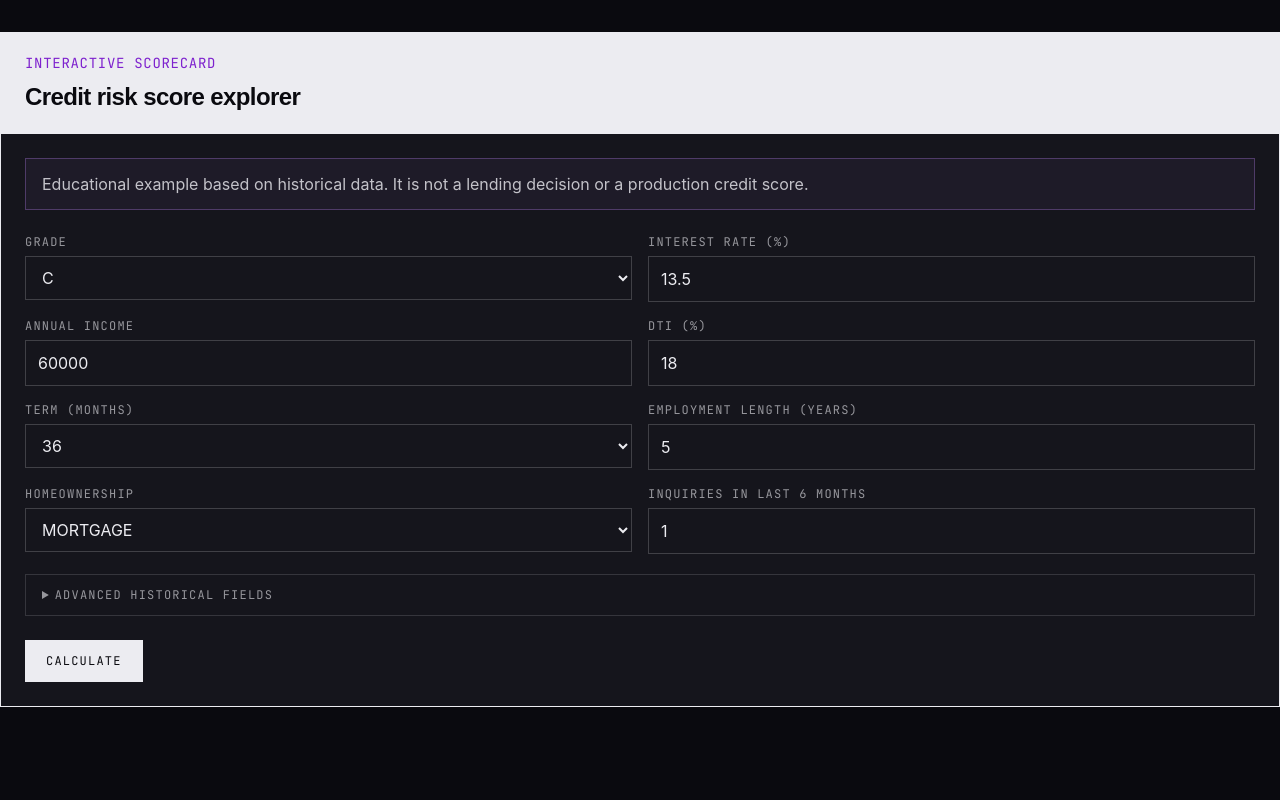
marks a calculated result stale when an input changes
The width and height of the screenshot is (1280, 800).
Click the button "Calculate" at (84, 661), box [25, 640, 143, 682]
(page scrolled)
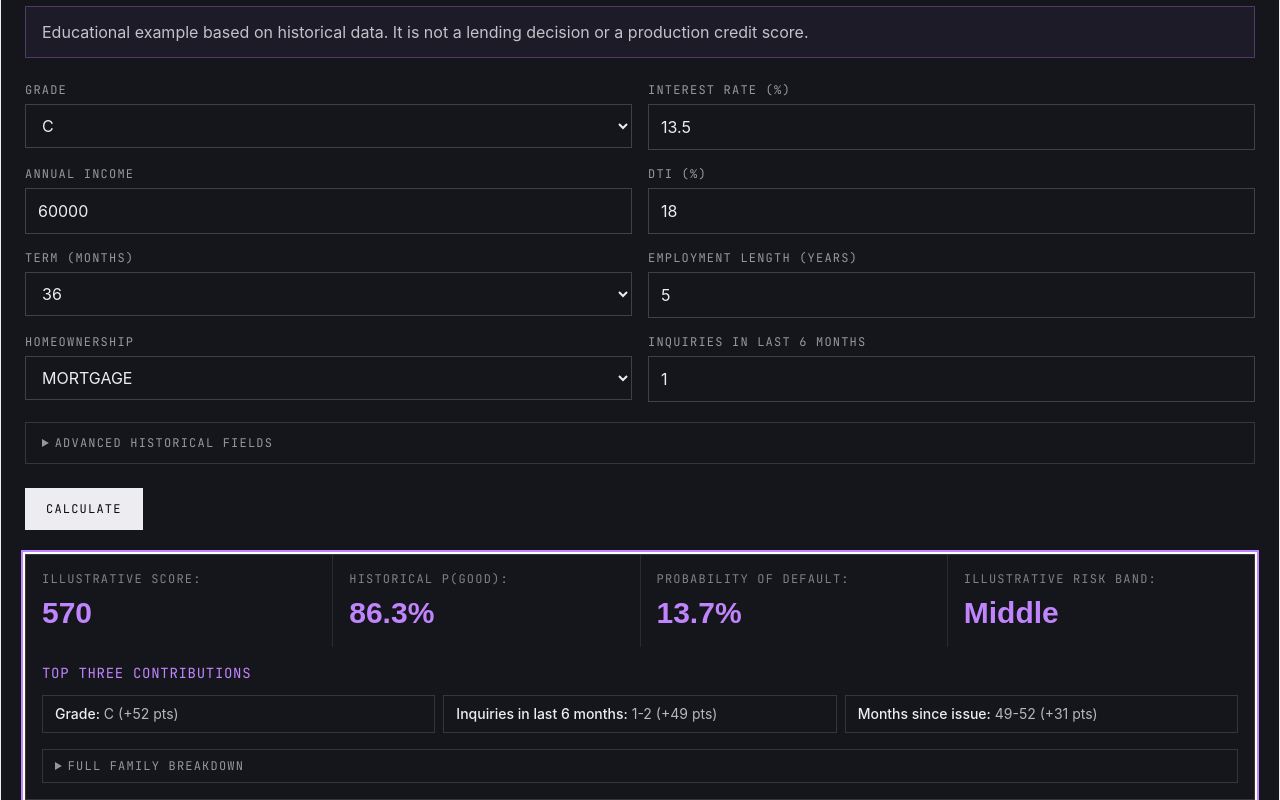
Replace the text in the number field labelled "Annual income" with "70000" at (328, 211), box [25, 188, 632, 234]
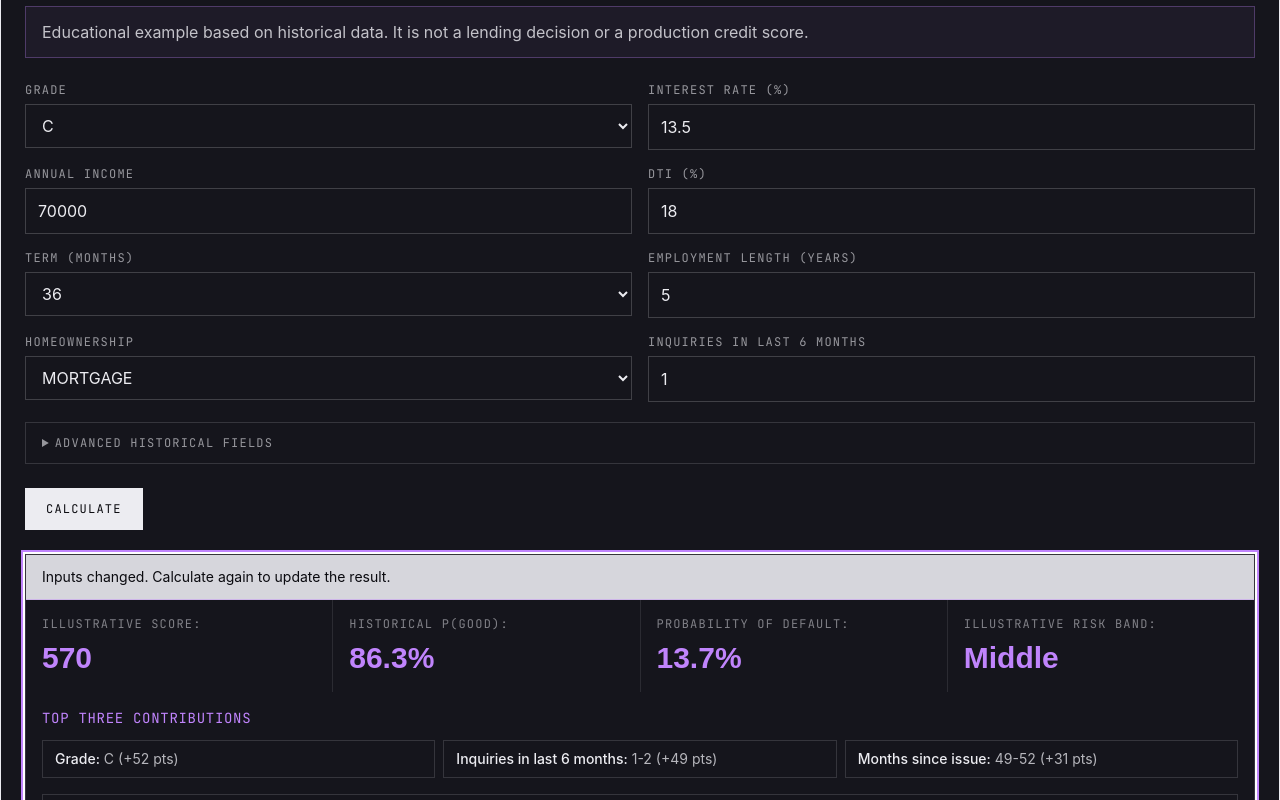
Expected: the text "Illustrative score:" is shown, [42, 616, 202, 632]
Expected: the text "Inputs changed. Calculate again to update the result." is shown, [26, 555, 1254, 600]
